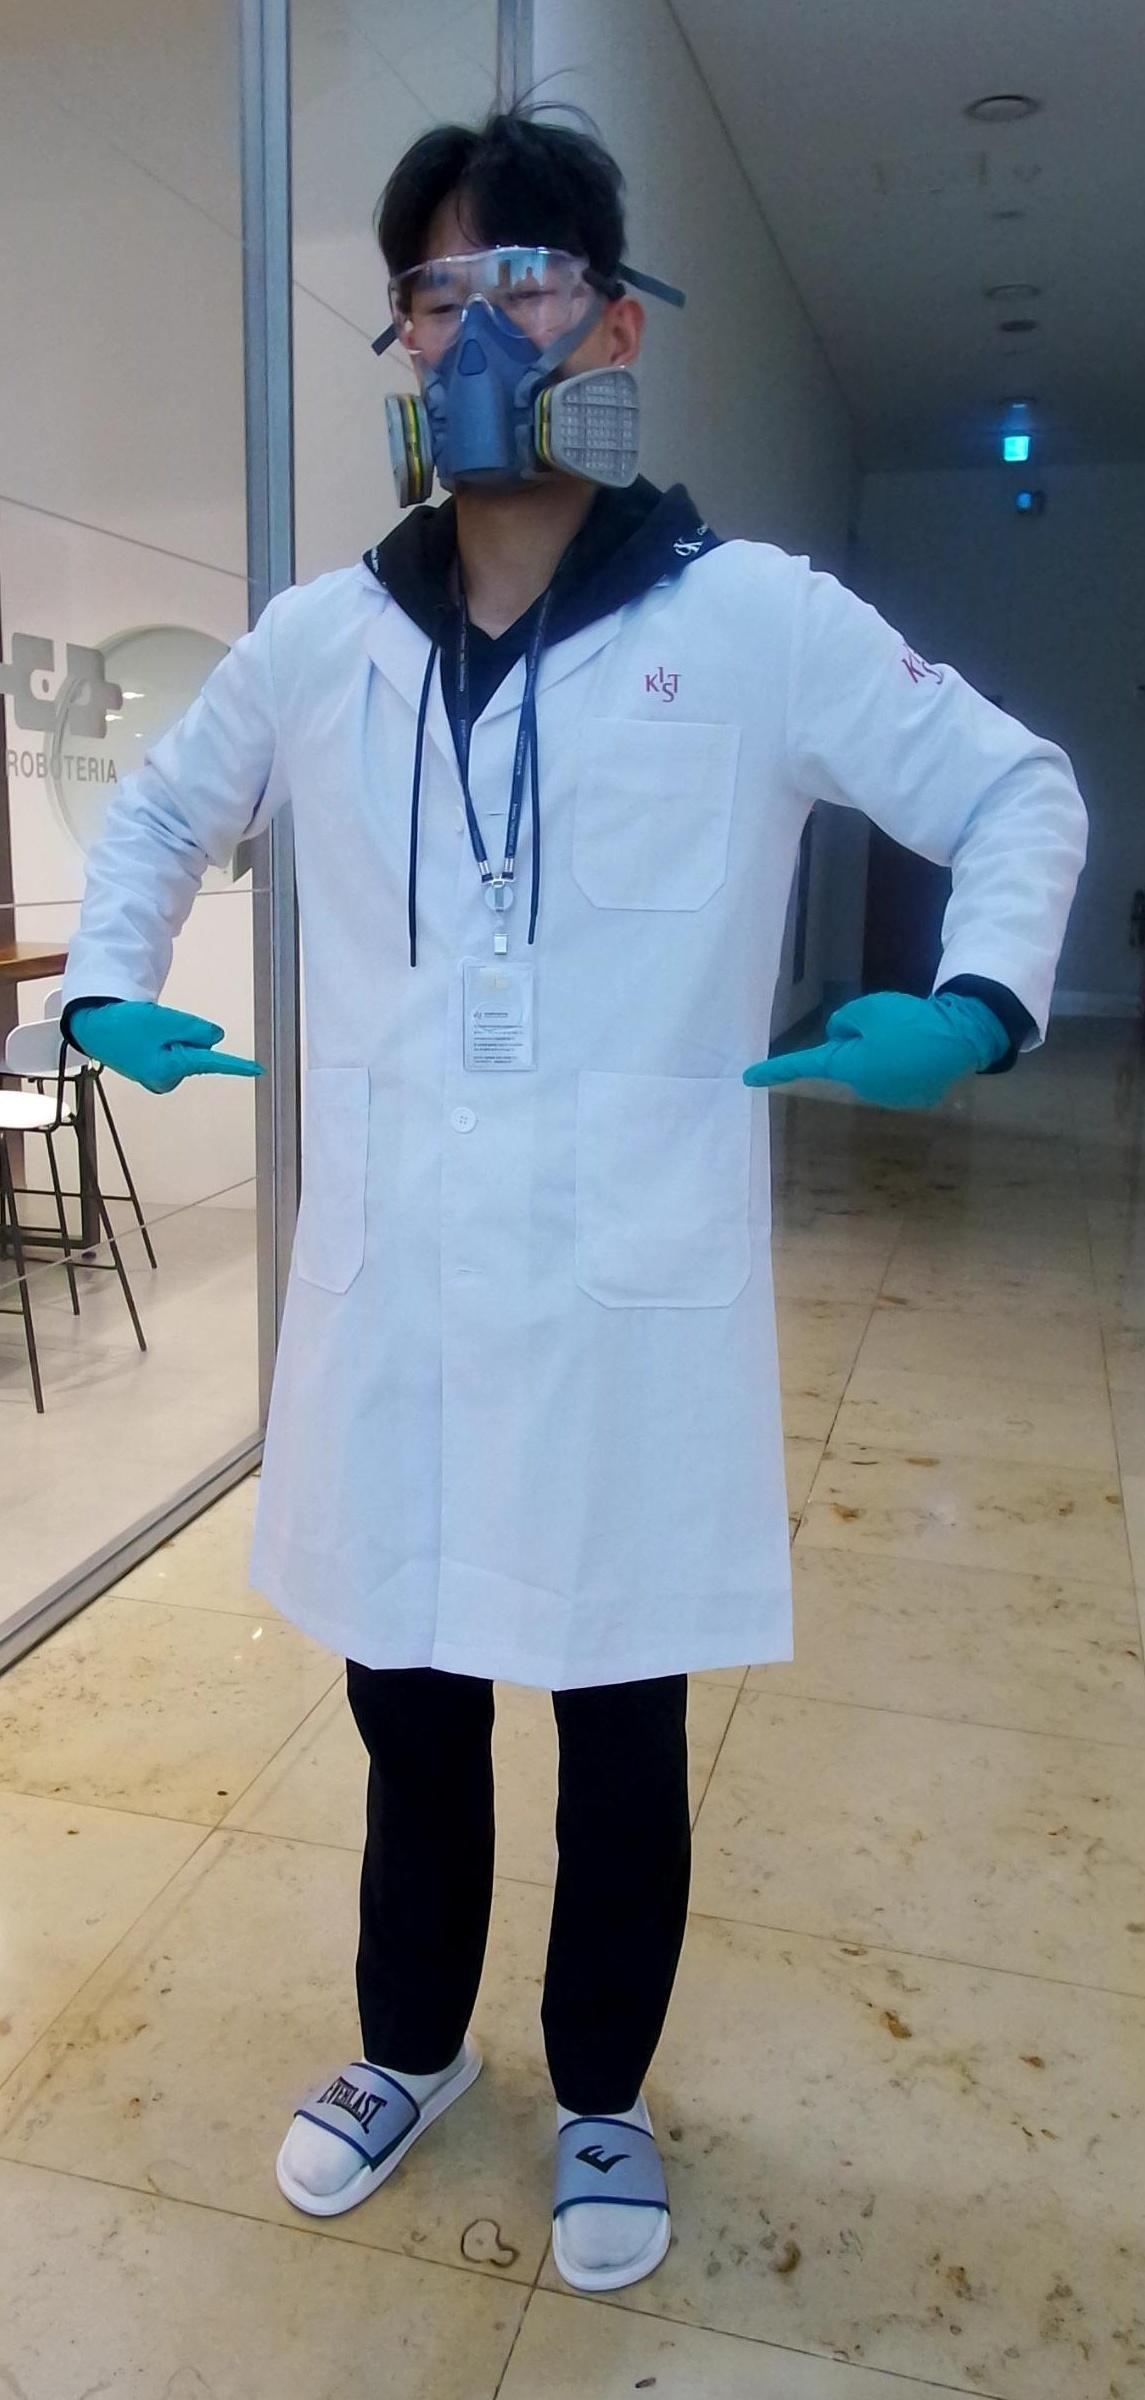lab_coat: (257, 566, 776, 1676)
